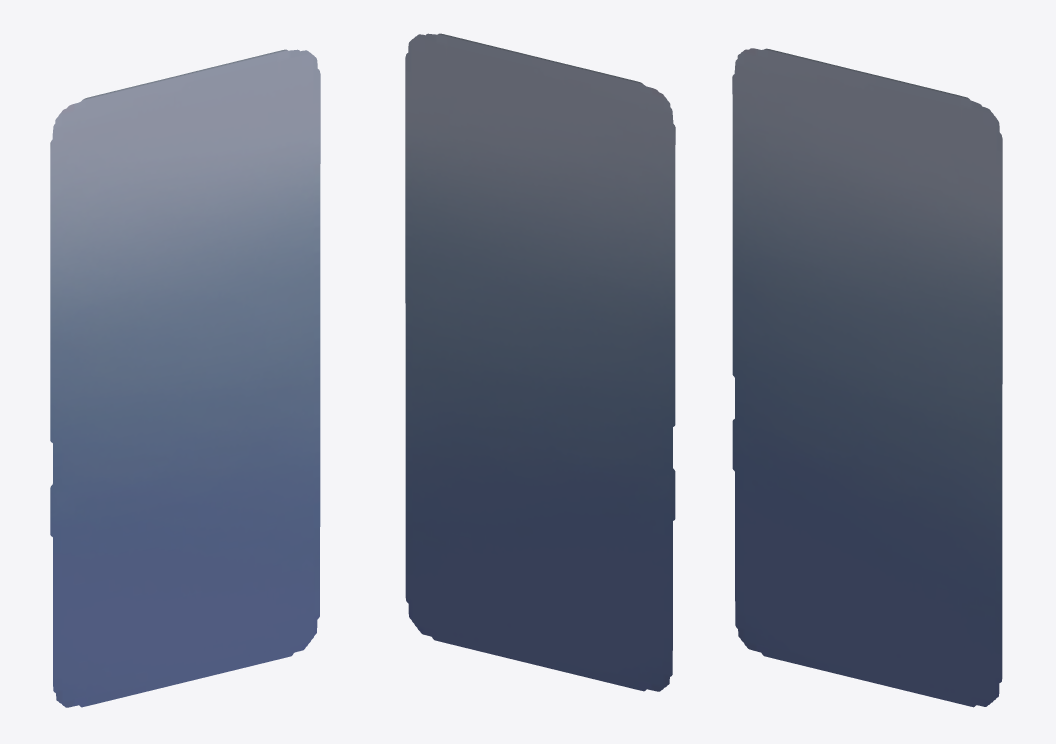
The model's file is Player_Lady_Kafka_LookAtPhone_00.fbx.
3 renders of one model, left to right at view 1: azimuth 30°, elevation 25°; view 2: azimuth 150°, elevation 25°; view 3: azimuth 330°, elevation 25°, orthographic.
Parts seen in each view (by area): view 1: LookAtPhone_00_Phone_Model; view 2: LookAtPhone_00_Phone_Model; view 3: LookAtPhone_00_Phone_Model.
Part boxes in pixels (<box>): LookAtPhone_00_Phone_Model: <box>50,49,320,707</box>; LookAtPhone_00_Phone_Model: <box>405,33,675,691</box>; LookAtPhone_00_Phone_Model: <box>732,48,1002,707</box>.
Bounding box in the file's own units: 0.0701 × 0.1411 × 0.00861.
Materials: 1 (1 with a texture image).
